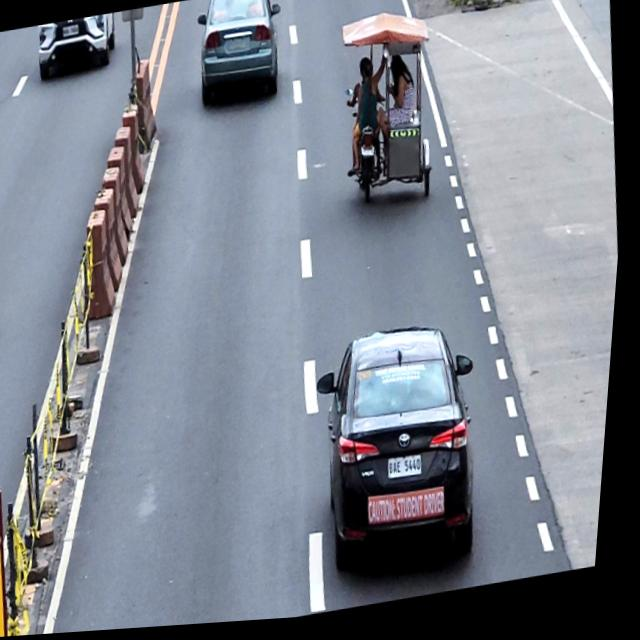Car: (306, 316, 505, 599), (189, 0, 294, 122), (34, 13, 121, 87)
License-Plate: (392, 458, 431, 485), (228, 39, 251, 56), (361, 146, 379, 162), (61, 25, 80, 40)
Tricycle: (330, 6, 448, 221)
